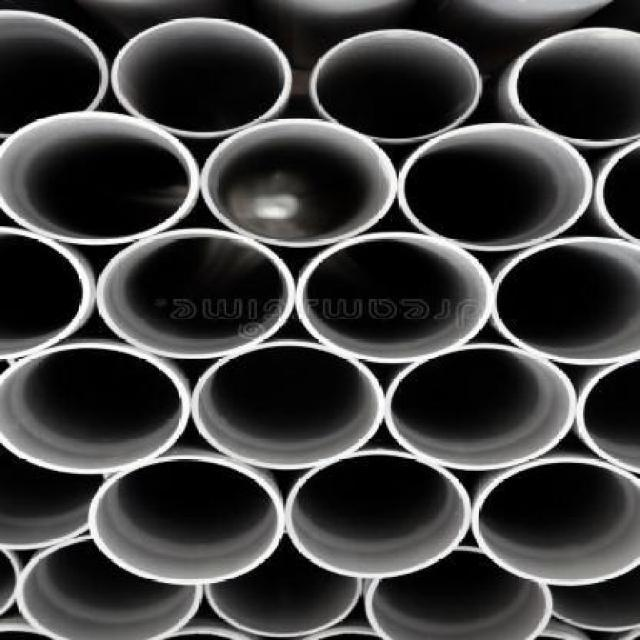pipe: (0, 111, 199, 245), (296, 231, 493, 364), (97, 229, 296, 360), (199, 119, 399, 247), (0, 341, 189, 474), (89, 456, 283, 585), (189, 340, 383, 469), (383, 343, 577, 471), (397, 125, 592, 251), (286, 450, 469, 579), (109, 17, 291, 137), (472, 457, 640, 585), (15, 535, 203, 640), (311, 29, 484, 143), (492, 237, 640, 365), (363, 546, 552, 640), (205, 531, 363, 637), (508, 27, 640, 148), (0, 9, 108, 137), (0, 225, 91, 362), (575, 357, 640, 472)
